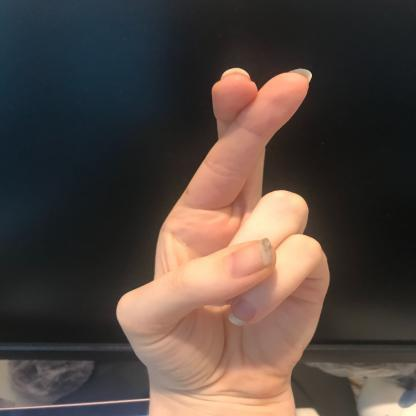R: (112, 63, 335, 404)
